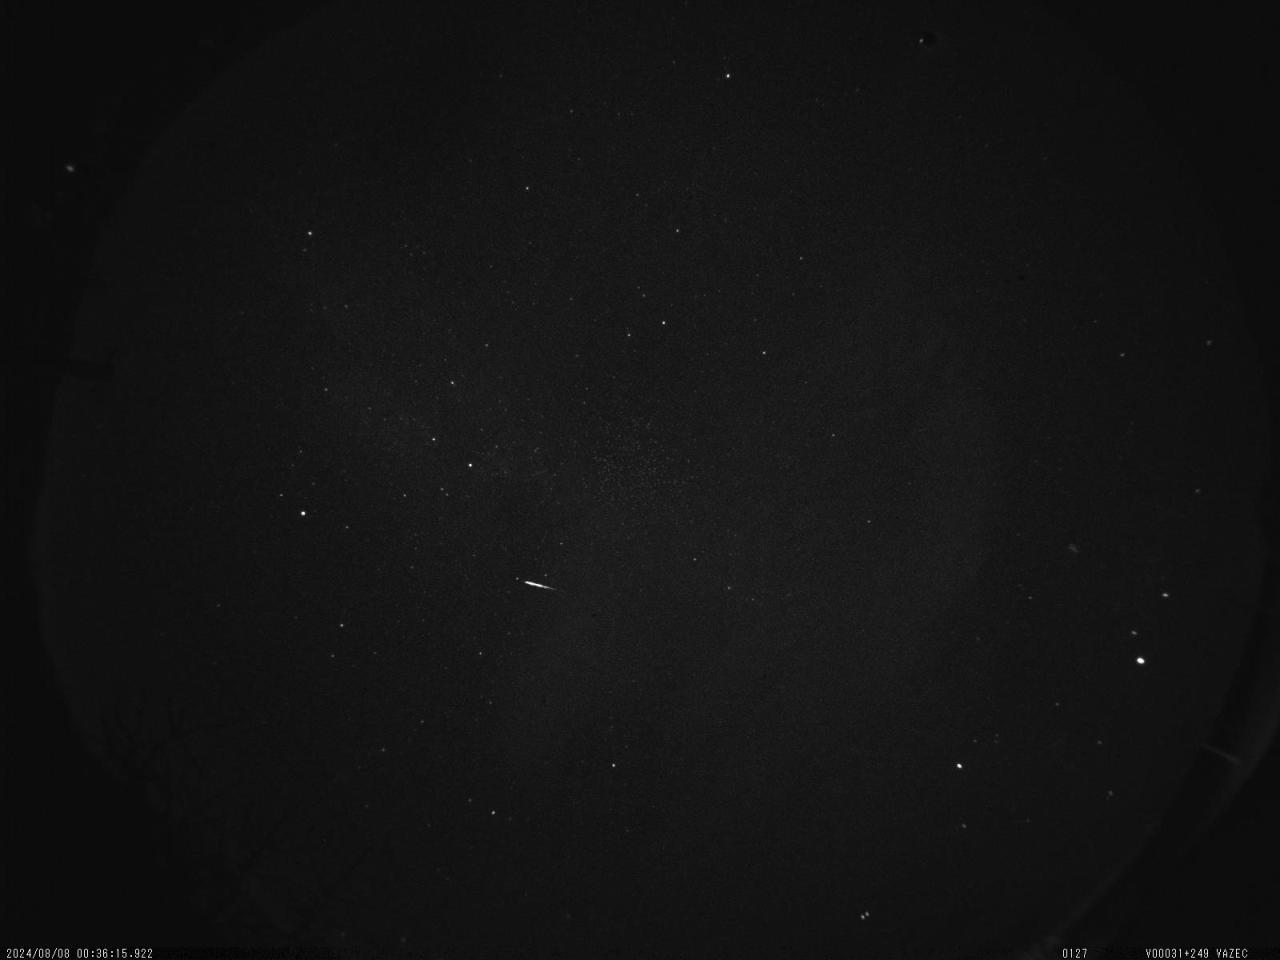Meteor: (519, 577, 556, 592)
